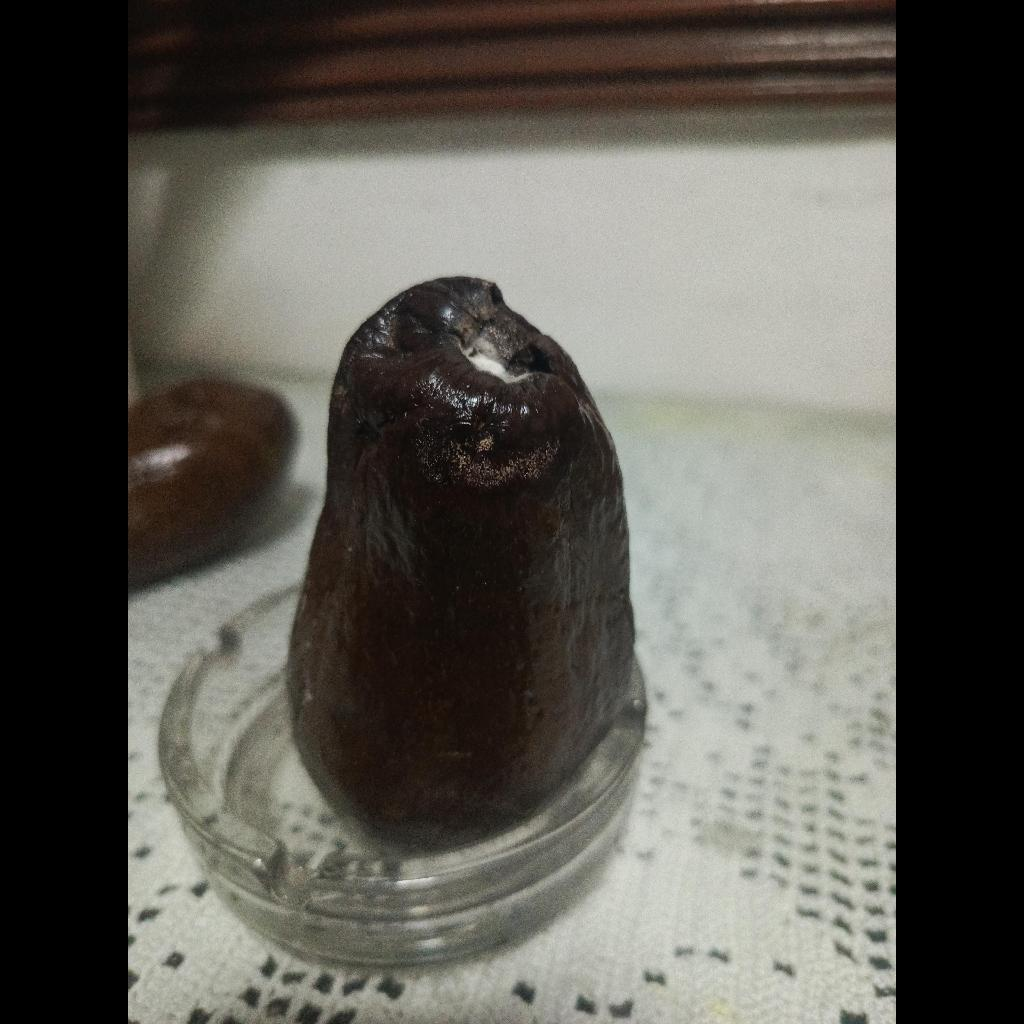stem end rot: (288, 277, 634, 846)
